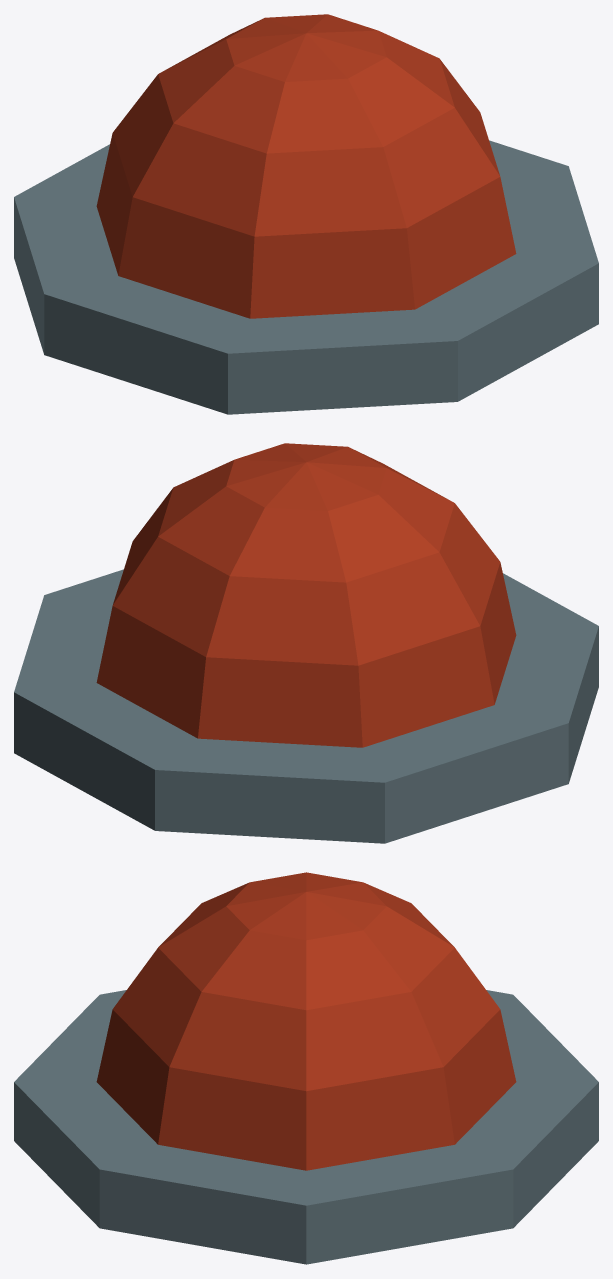
File: Alarm.glb
The picture shows the model from 3 angles, top to bottom: view 1: azimuth 30°, elevation 25°; view 2: azimuth 150°, elevation 25°; view 3: azimuth 270°, elevation 25°; orthographic projection. The views are drawn at different scales.
Visible parts, largest first — view 1: Alarm; view 2: Alarm; view 3: Alarm.
Part boxes in pixels (x1,y1,x2,y2): Alarm: (14,14,598,414); Alarm: (14,443,598,843); Alarm: (14,872,598,1264).
Bounding box in the file's own units: 3.74 × 1.76 × 3.74.
1 material, 1 textured.
